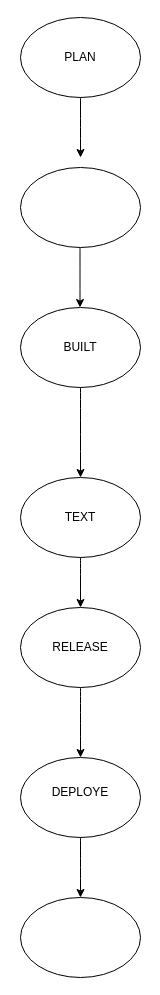
Some shapes in this 160 by 995 pixel diagram are drawn without their labels. Each missing label, with the centre of its shape:
DEVELOP: point 80,207
MONITOR/OPERATOR: point 80,937
